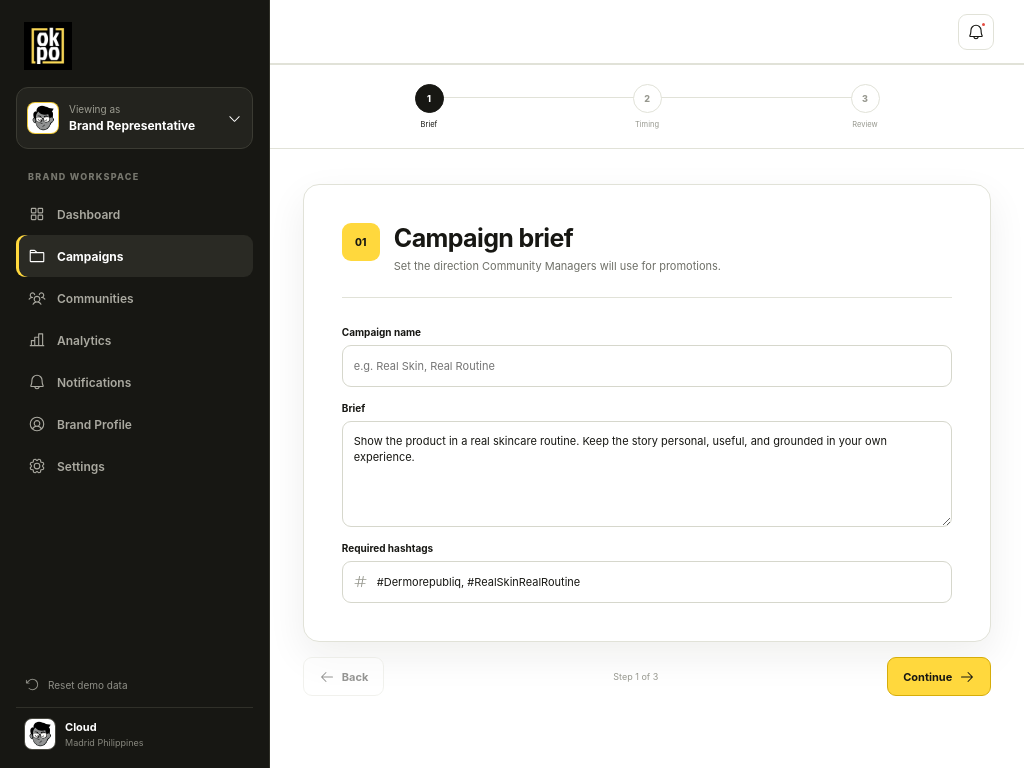
Test: OkPo role workspaces › validates typed campaign duration and highlights every touched calendar month
Click the button "2 Timing".
click(647, 106)  # box [538, 83, 756, 130]
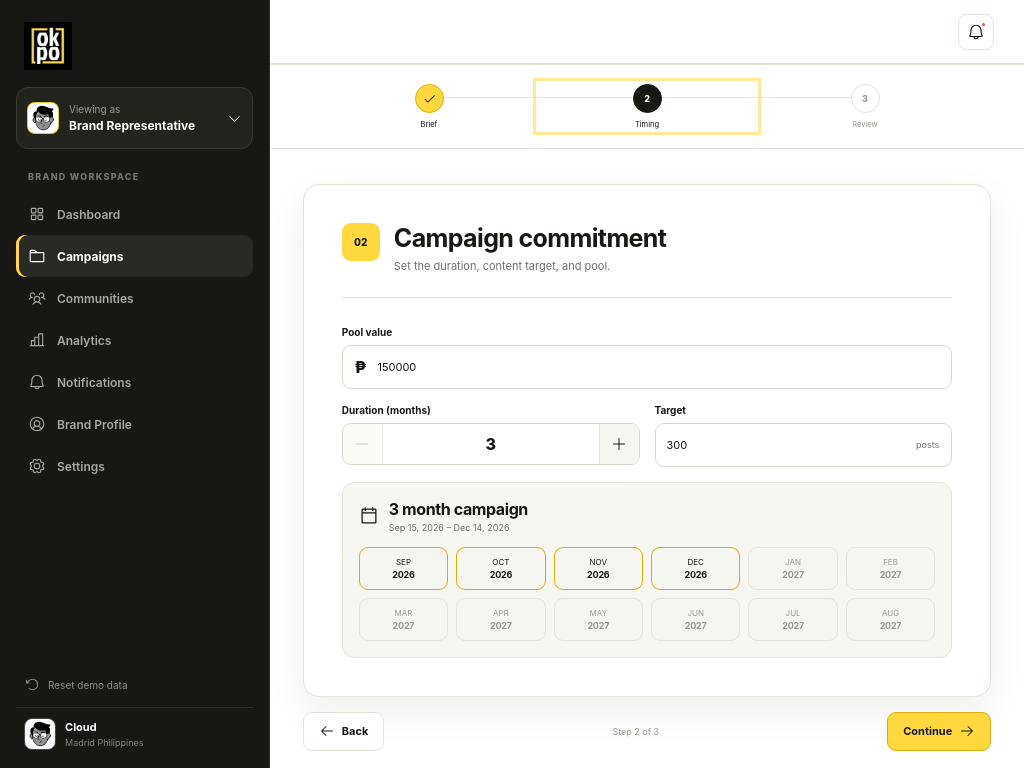
Replace the text in the number field named "Duration (months)" with "2" at (491, 444), box [383, 424, 598, 464]
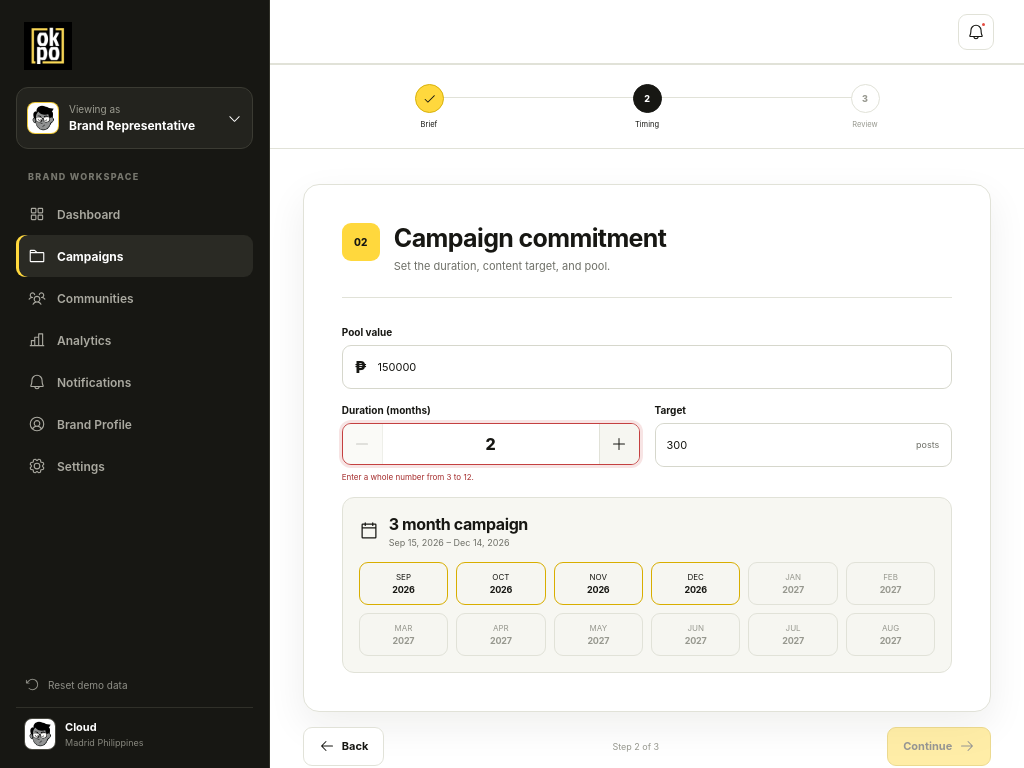
Check: the button "Continue" is disabled, box [887, 727, 991, 766]
Replace the text in the number field named "Duration (months)" with "3" at (491, 444), box [383, 424, 598, 464]
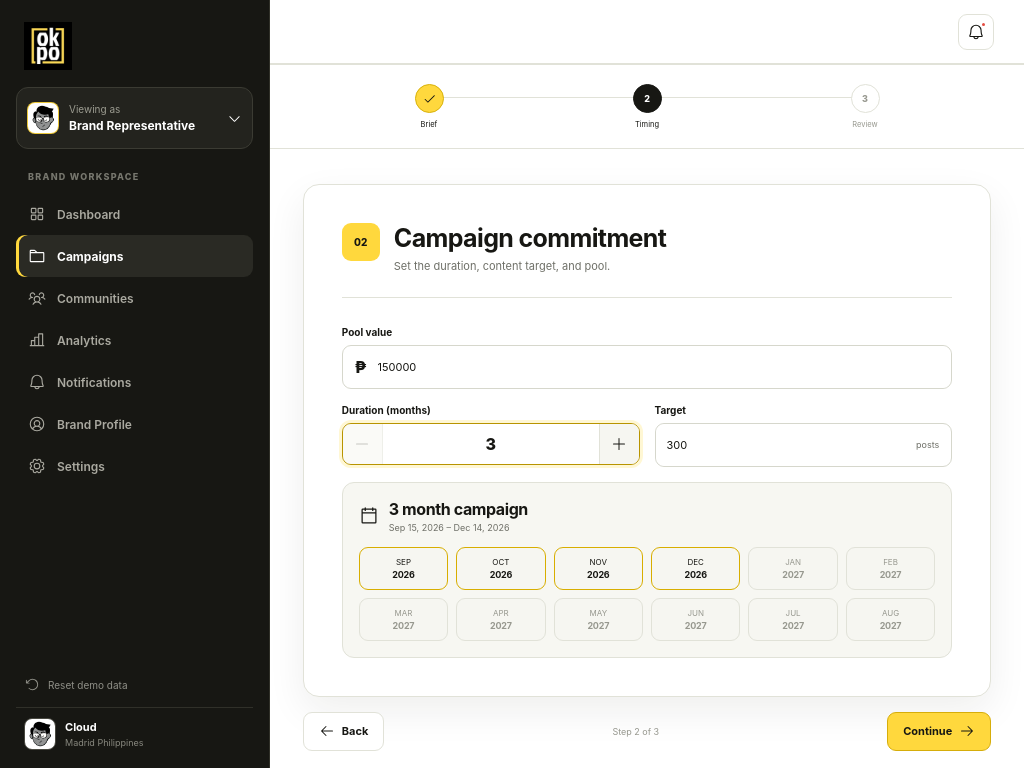
Check: the number of buttons with class "selected" is 4, box [359, 547, 448, 590]; [456, 547, 546, 590]; [554, 547, 643, 590]; [651, 547, 740, 590]
Check: the text "Dec" is shown, box [688, 557, 704, 567]
Check: the button "Continue" is enabled, box [887, 712, 991, 751]
